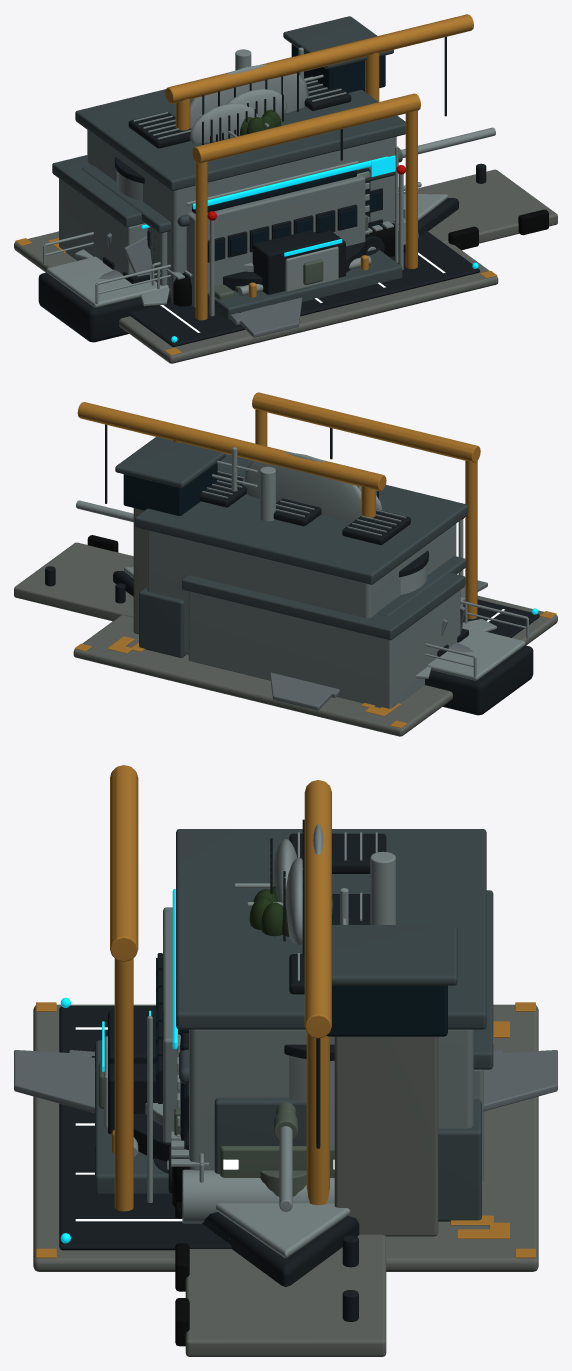
The model's file is military-library.glb.
The picture shows the model from 3 angles, top to bottom: view 1: azimuth 30°, elevation 25°; view 2: azimuth 150°, elevation 25°; view 3: azimuth 270°, elevation 25°; orthographic projection. The views are drawn at different scales.
Visible parts, largest first — view 1: 车间屋顶, 装甲生产车间, 基础平台.006, 研究中心, 停机坪, 港口吊臂, 船坞栈桥, 吊装横梁, 舰船船体.001, 飞机库, 装卸区, 舰船主甲板.001 (+33 smaller); view 2: 飞机库, 车间屋顶, 装甲生产车间, 基础平台.006, 船坞栈桥, 机库斜顶, 港口吊臂, 吊装横梁, 舰船船体.001, 相控阵雷达, 塔台遮阳顶, 控制机房.001 (+17 smaller); view 3: 车间屋顶, 塔台, 基础平台.006, 船坞栈桥, 装甲生产车间, 停机坪, 塔台遮阳顶, 港口吊臂, 塔台观察窗, 吊装横梁, 吊装立柱.001, 控制机房.001 (+24 smaller).
Boxes of the visible parts, <box> form: 车间屋顶: <box>75,89,405,190</box>; 装甲生产车间: <box>87,130,396,302</box>; 基础平台.006: <box>14,231,498,363</box>; 研究中心: <box>186,175,365,307</box>; 停机坪: <box>129,230,479,346</box>; 港口吊臂: <box>165,14,473,103</box>; 船坞栈桥: <box>398,169,557,243</box>; 吊装横梁: <box>192,93,420,163</box>; 舰船船体.001: <box>38,198,458,342</box>; 飞机库: <box>59,178,147,275</box>; 装卸区: <box>207,250,402,319</box>; 舰船主甲板.001: <box>46,194,447,307</box>; 飞机库: <box>188,590,460,708</box>; 车间屋顶: <box>135,454,468,584</box>; 装甲生产车间: <box>147,523,456,655</box>; 基础平台.006: <box>73,595,557,736</box>; 船坞栈桥: <box>14,542,133,621</box>; 机库斜顶: <box>182,572,465,640</box>; 港口吊臂: <box>77,402,386,491</box>; 吊装横梁: <box>252,392,480,462</box>; 舰船船体.001: <box>113,571,533,715</box>; 相控阵雷达: <box>243,452,361,521</box>; 塔台遮阳顶: <box>115,437,225,487</box>; 控制机房.001: <box>139,587,185,657</box>; 车间屋顶: <box>176,829,486,1029</box>; 塔台: <box>334,1036,438,1236</box>; 基础平台.006: <box>33,1004,538,1271</box>; 船坞栈桥: <box>185,1234,386,1356</box>; 装甲生产车间: <box>189,1029,473,1170</box>; 停机坪: <box>59,1006,231,1250</box>; 塔台遮阳顶: <box>332,925,457,985</box>; 港口吊臂: <box>304,780,331,1038</box>; 塔台观察窗: <box>326,985,447,1036</box>; 吊装横梁: <box>110,765,138,961</box>; 吊装立柱.001: <box>114,958,133,1211</box>; 控制机房.001: <box>438,1099,481,1221</box>.
Size of the model in its own units: 13.25 by 5.67 by 8.4.
